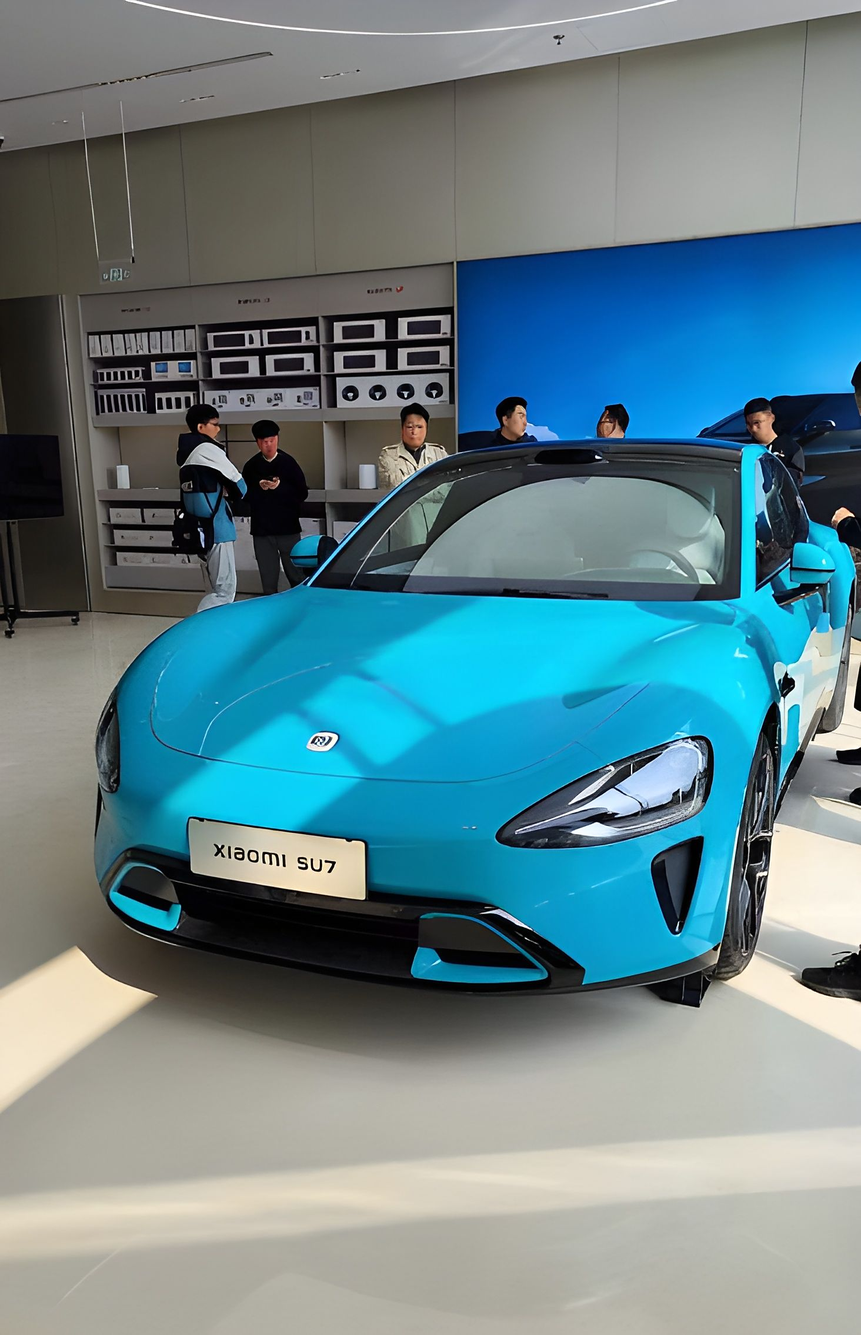su7: (84, 426, 857, 1017)
